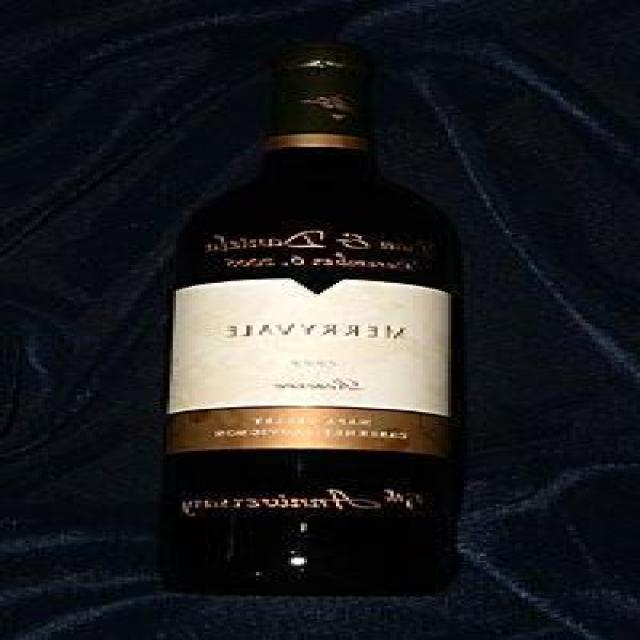Bottle: (198, 22, 477, 621)
